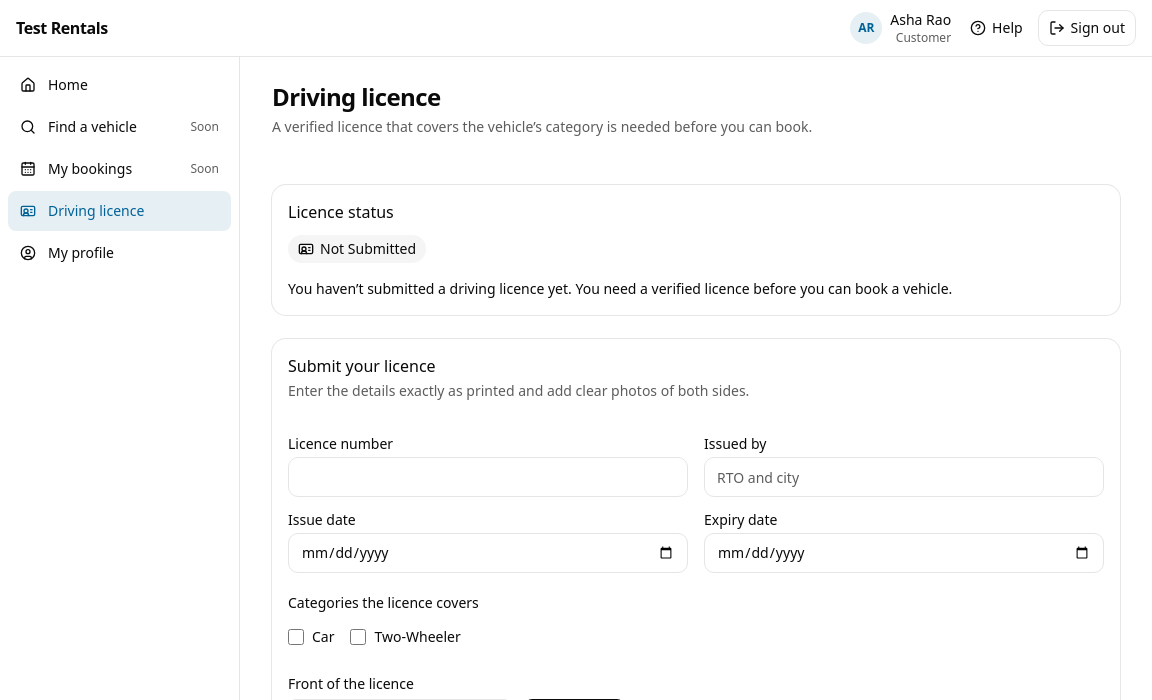
Test: licence submission (customer) › requires both photos
Type "X1" into the field labelled "Licence number" at (488,477), box [288,457,688,497]
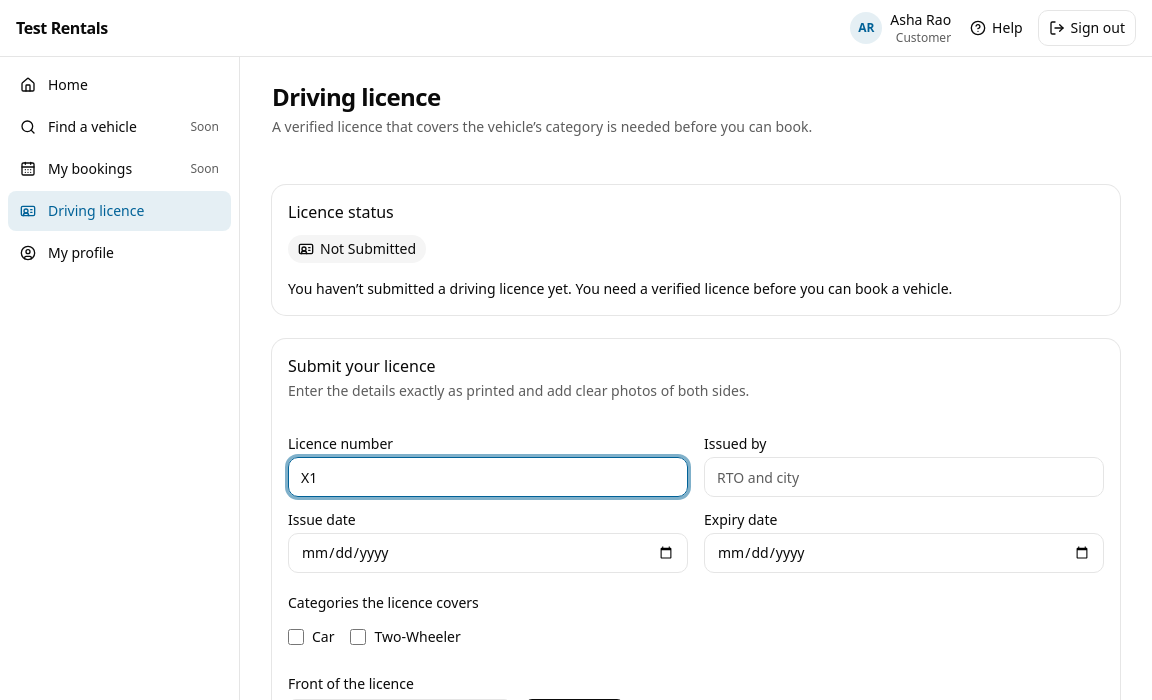
Type "RTO" into the field labelled "Issued by" at (904,477), box [704,457,1104,497]
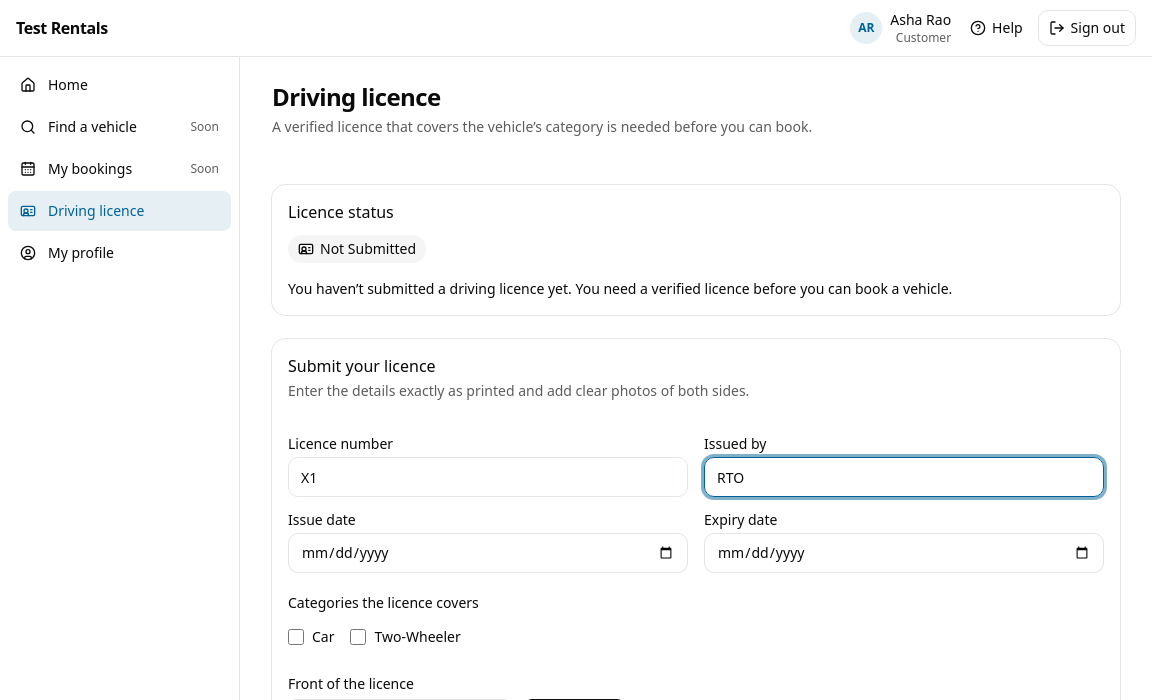
Type "2019-06-01" into the date field labelled "Issue date" at (488,553), box [288,533,688,573]
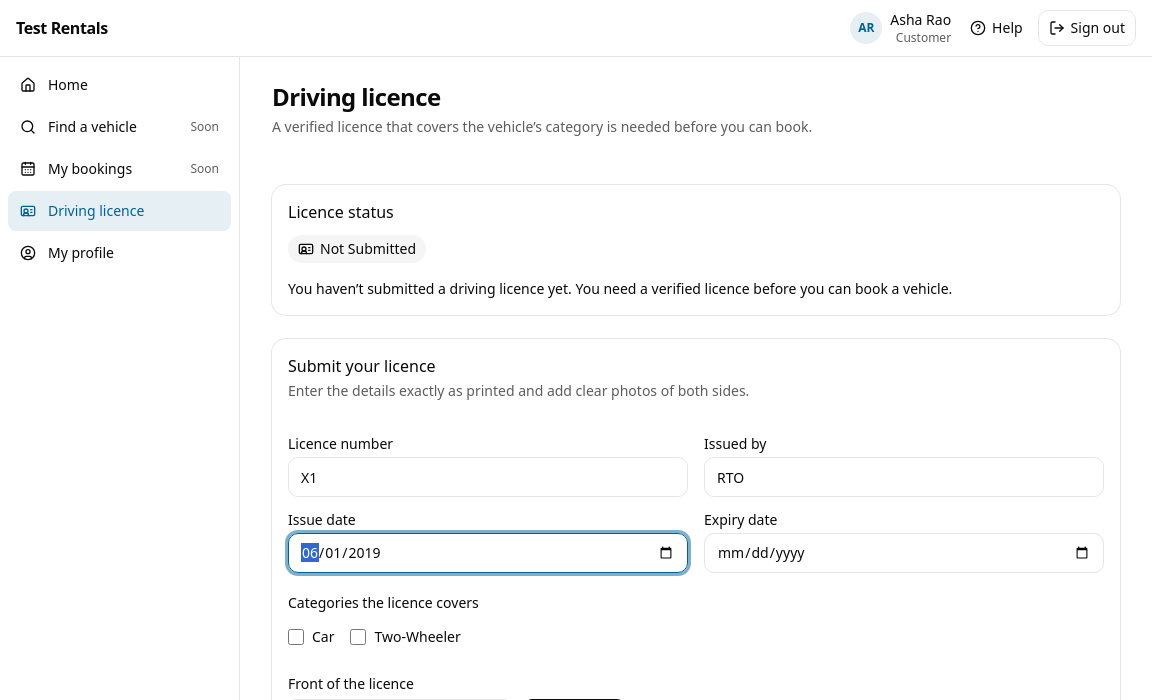
Type "2039-05-31" into the date field labelled "Expiry date" at (904,553), box [704,533,1104,573]
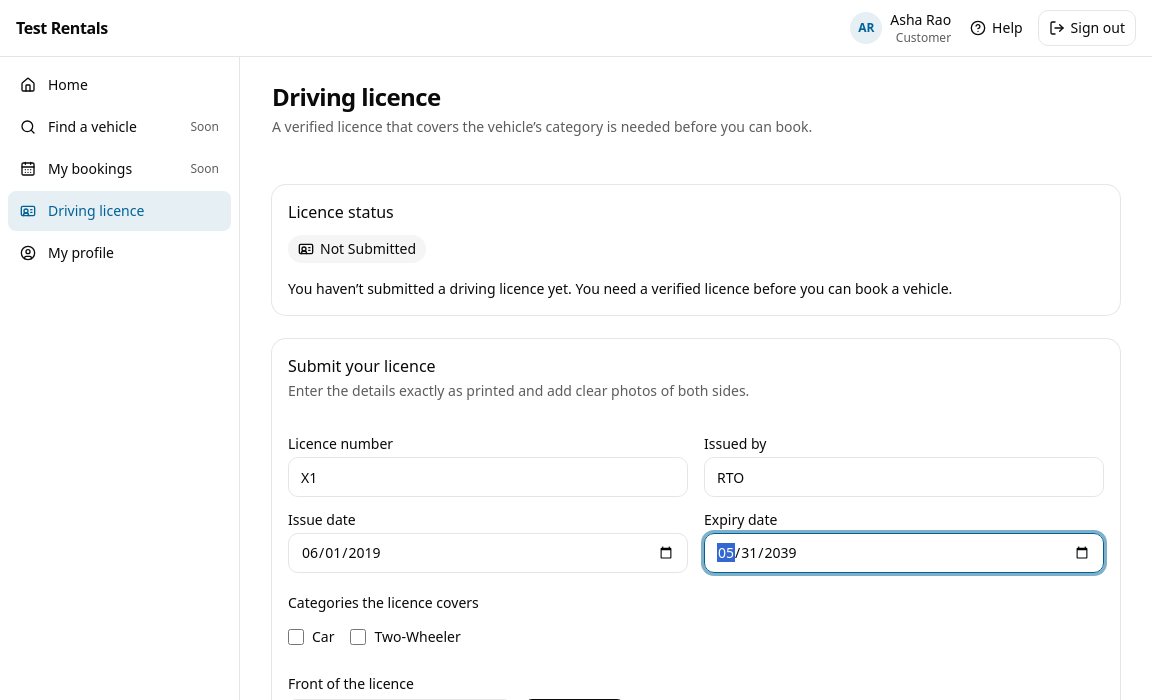
Click the checkbox labelled "Two-Wheeler" at (358,637), box [350,629,366,645]
(page scrolled)
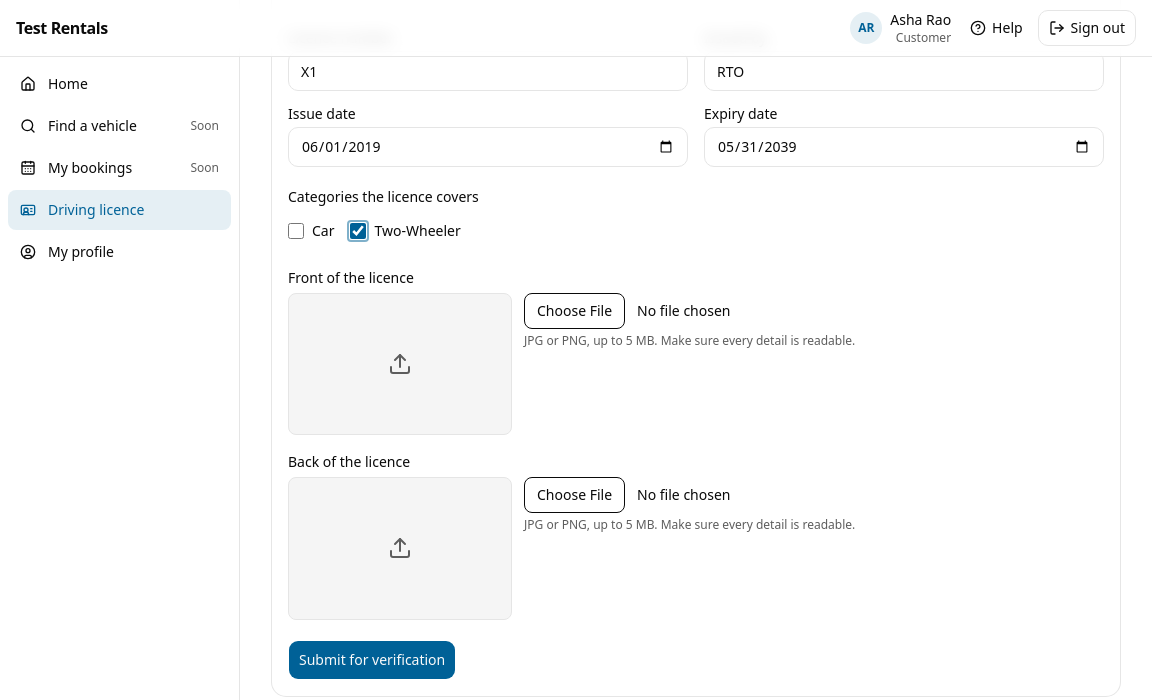
Click the button "Submit for verification" at (372,660), box [288,640,456,680]
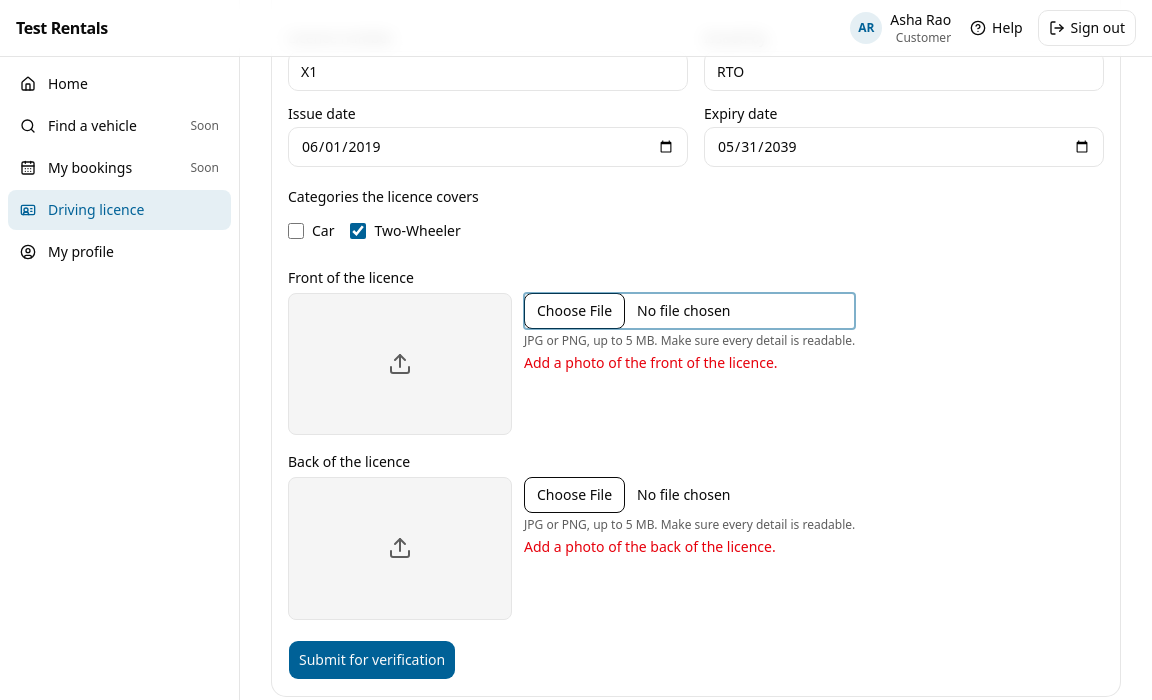
Expected: the text "Add a photo of the front of the licence." is shown, [524,353,778,372]
Expected: the text "Add a photo of the back of the licence." is shown, [524,537,776,556]
